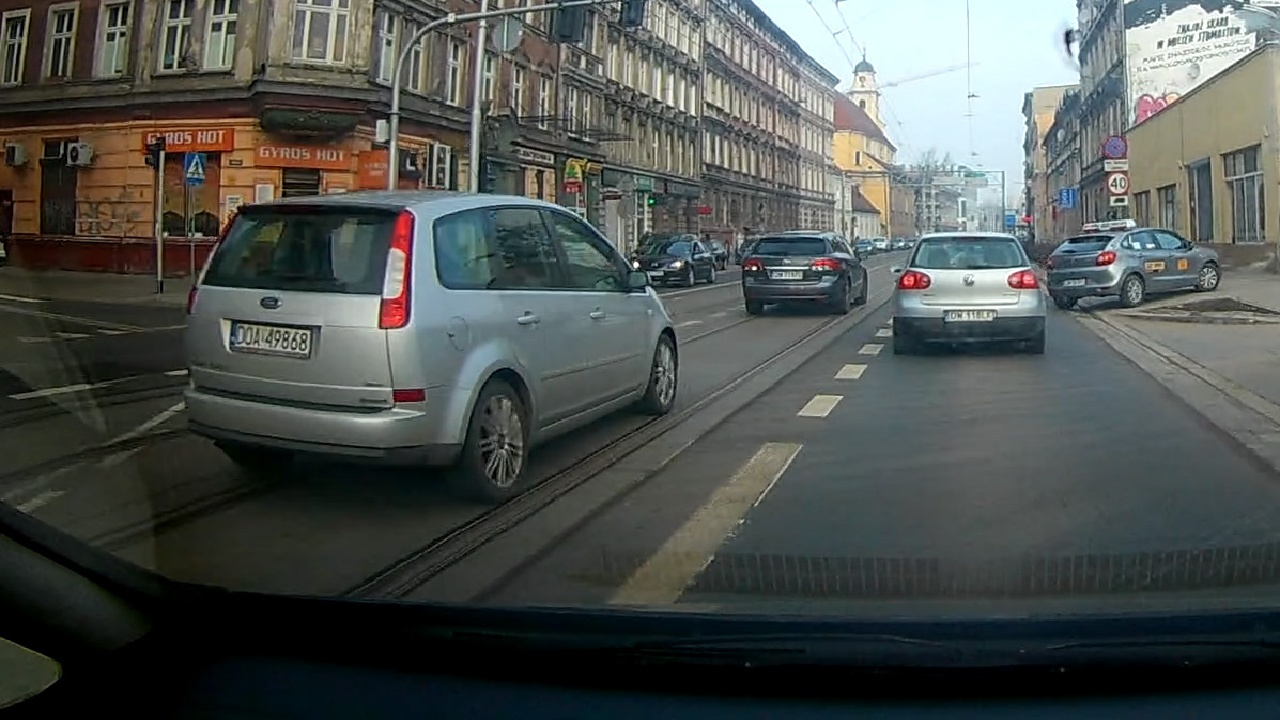B33_40: (1107, 172, 1131, 196)
